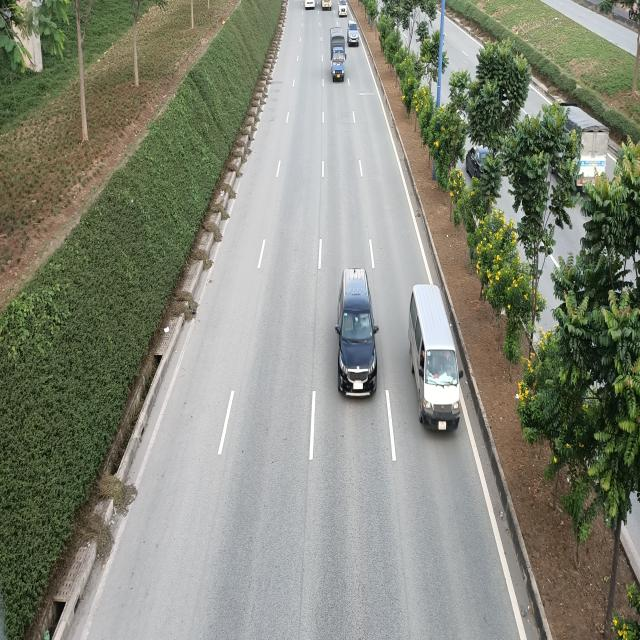car: (336, 270, 379, 402), (348, 22, 360, 46)
truck: (330, 29, 346, 83)
van: (408, 284, 462, 434)
